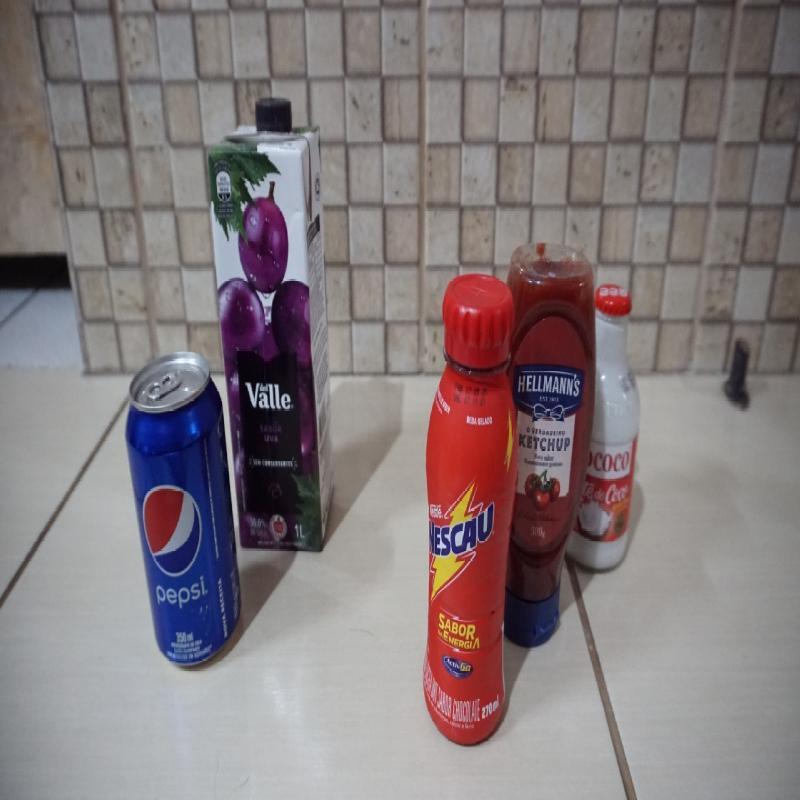Chocolate Milk: (422, 272, 517, 746)
Coconut Milk: (565, 284, 640, 573)
Ketchup: (504, 242, 597, 648)
Soda can: (124, 345, 246, 665)
